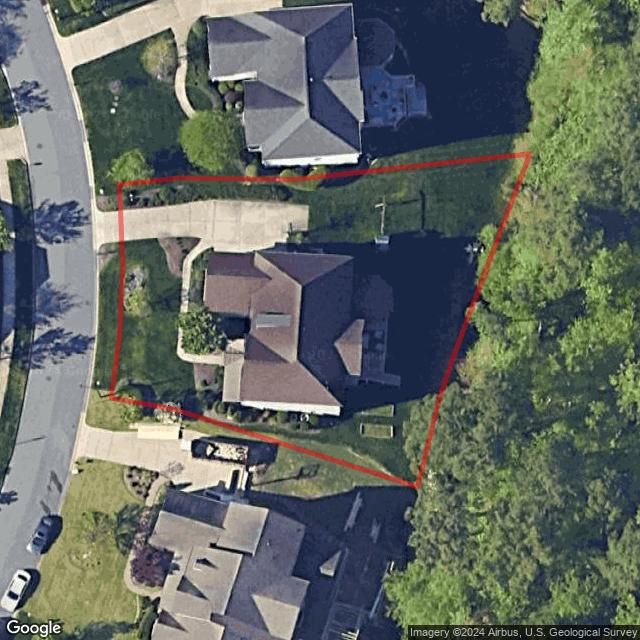Driveway: (121, 198, 308, 254)
Extra-Driveway: (92, 210, 122, 244)
Extra-Lawn: (90, 242, 122, 398), (95, 184, 118, 213)
House: (202, 251, 368, 410)
Lawn: (111, 154, 531, 488)
Other: (192, 362, 340, 432), (187, 247, 251, 356), (354, 276, 401, 386), (118, 184, 289, 212), (112, 379, 183, 414), (158, 237, 199, 279), (369, 191, 394, 250), (123, 265, 151, 315), (362, 399, 397, 418), (282, 177, 326, 191), (359, 423, 395, 440)
Sidewalk: (176, 239, 225, 368)
